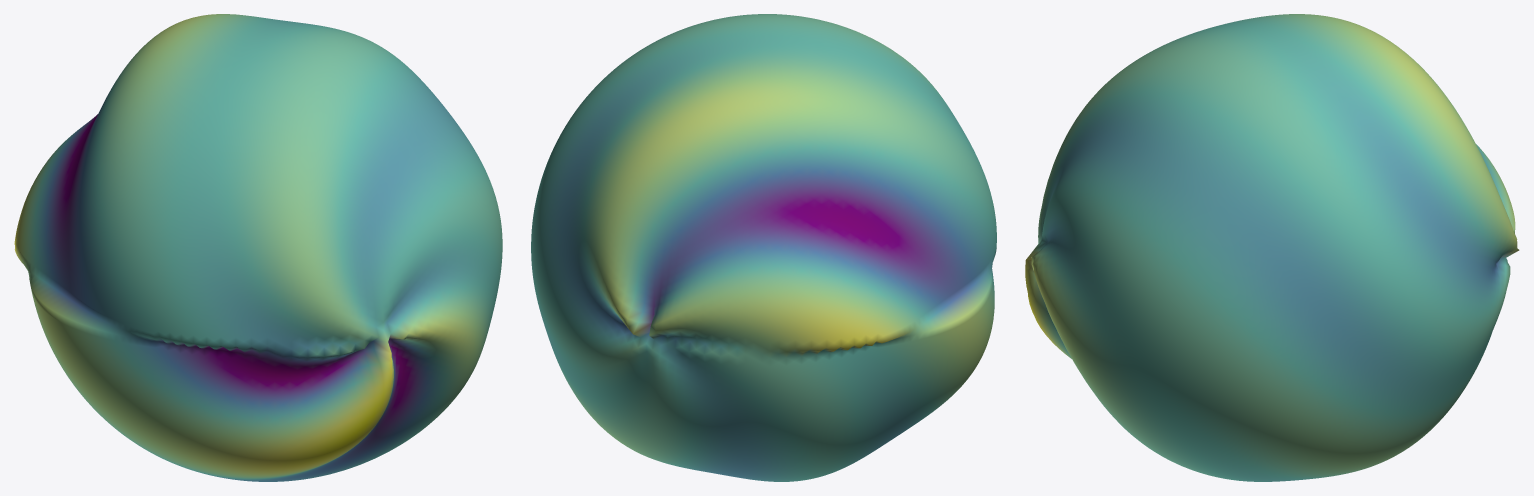
Rendered from sphere_frame_0000.glb.
The picture shows the model from 3 angles, left to right: view 1: azimuth 30°, elevation 25°; view 2: azimuth 150°, elevation 25°; view 3: azimuth 270°, elevation 25°; orthographic projection.
Parts seen in each view (by area): view 1: world; view 2: world; view 3: world.
Part boxes in pixels (x1,y1,x2,y2): world: [14, 14, 502, 481]; world: [531, 14, 996, 481]; world: [1025, 14, 1519, 481].
Size of the model in its own units: 2.2 by 2.15 by 2.29.
